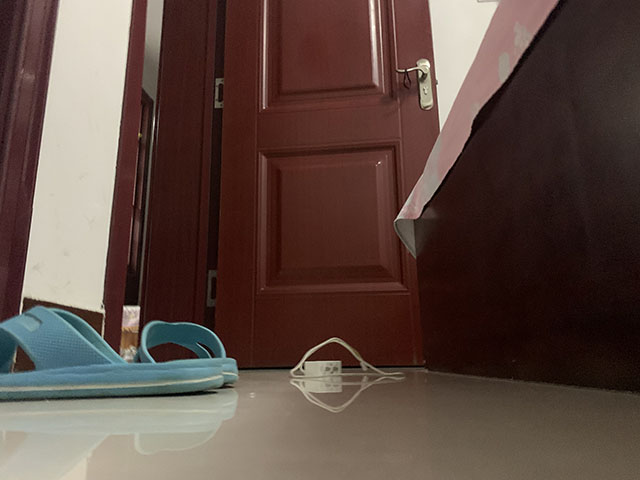bed: (391, 1, 640, 397)
slippers: (1, 304, 240, 403)
wire: (288, 336, 405, 379)
